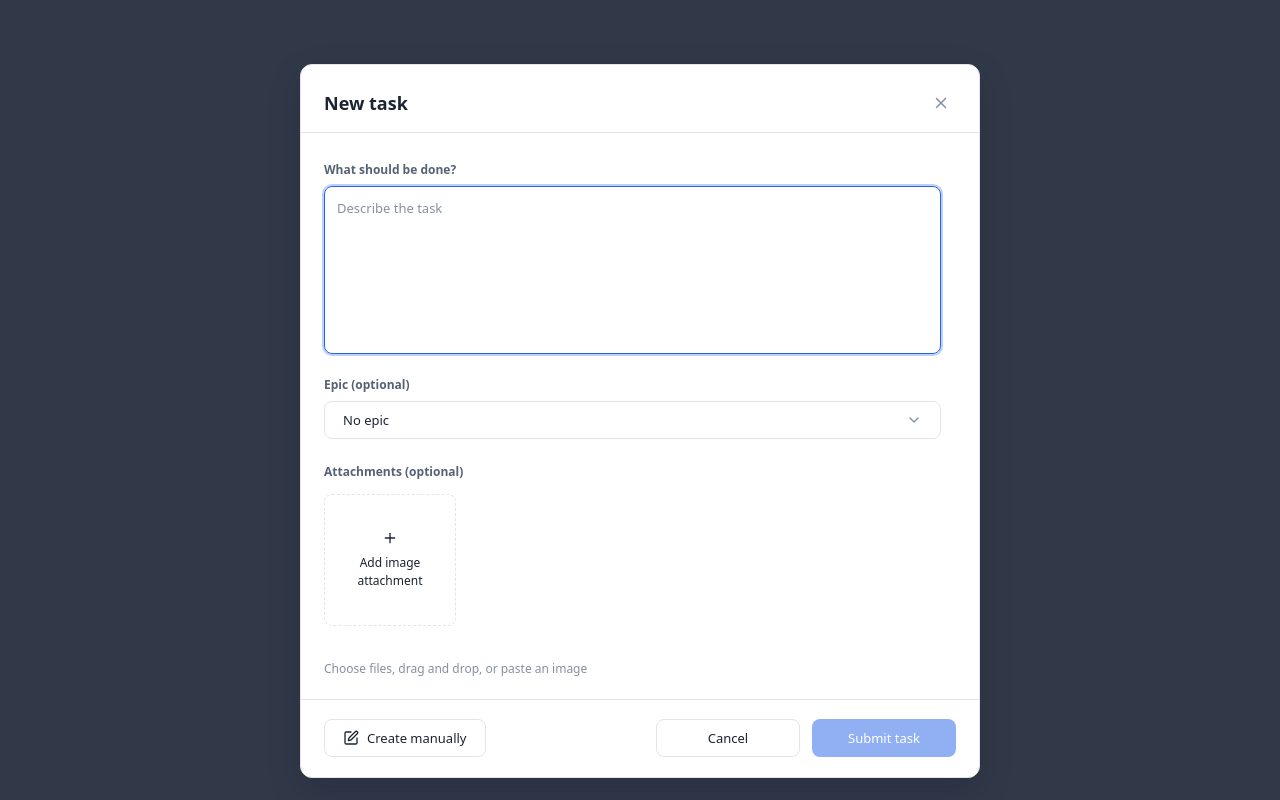
Test: simple request dialog › keeps a failed request in the form and shows the server error
The image size is (1280, 800).
Type "Keep this request" into the text box labelled "What should be done?" at (632, 270), box [324, 186, 941, 354]
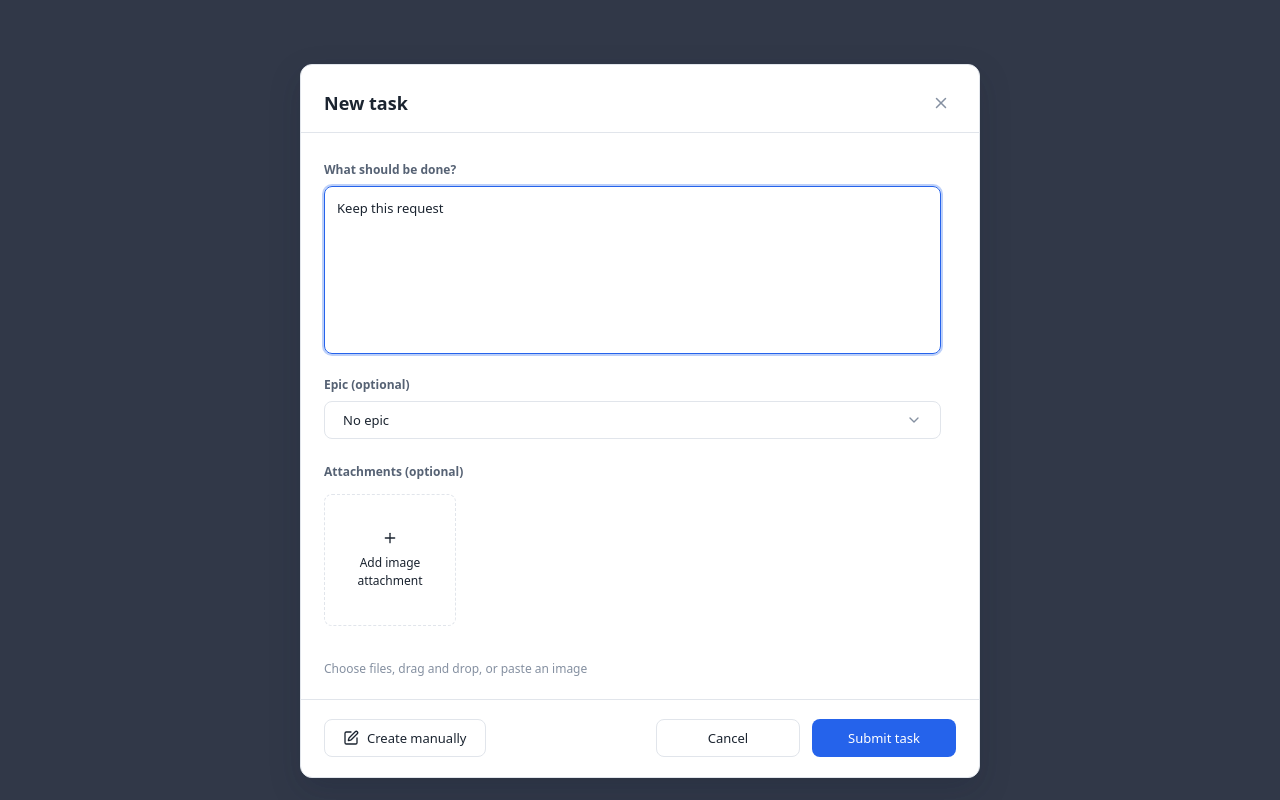
Click the button "Submit task" at (884, 738), box [812, 719, 956, 757]
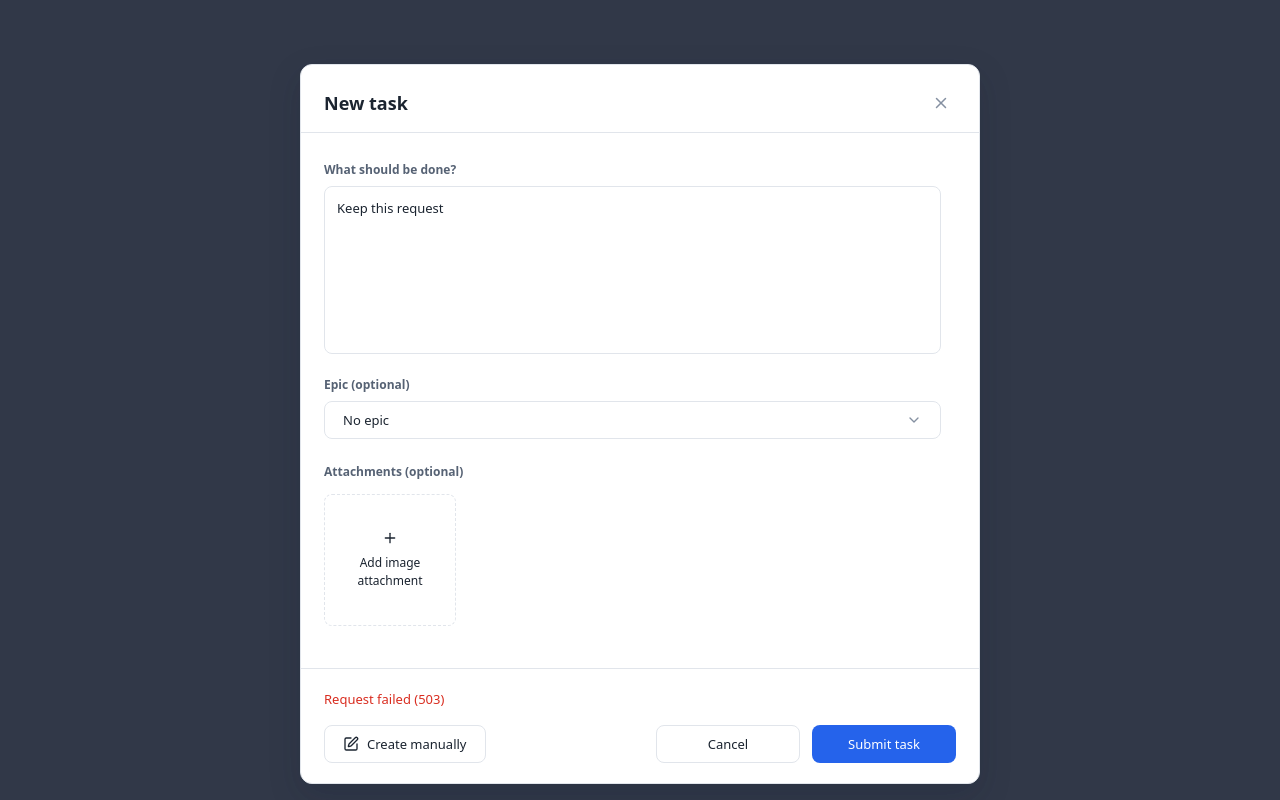
Expected: the element showing "Request failed (503) Create manually" is shown, [324, 690, 486, 763]
Expected: the message reads "Request failed (503)", [324, 690, 444, 708]
